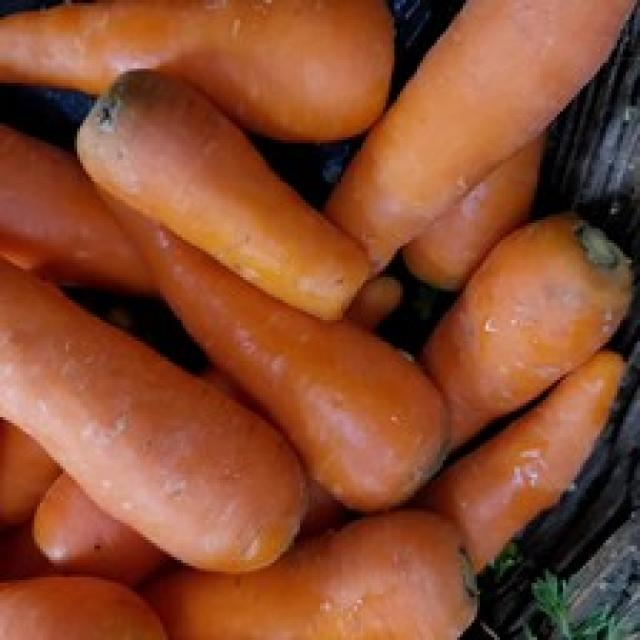Fresh_Carrot: (83, 190, 459, 483), (0, 241, 312, 569), (77, 66, 397, 323), (411, 223, 640, 475)
